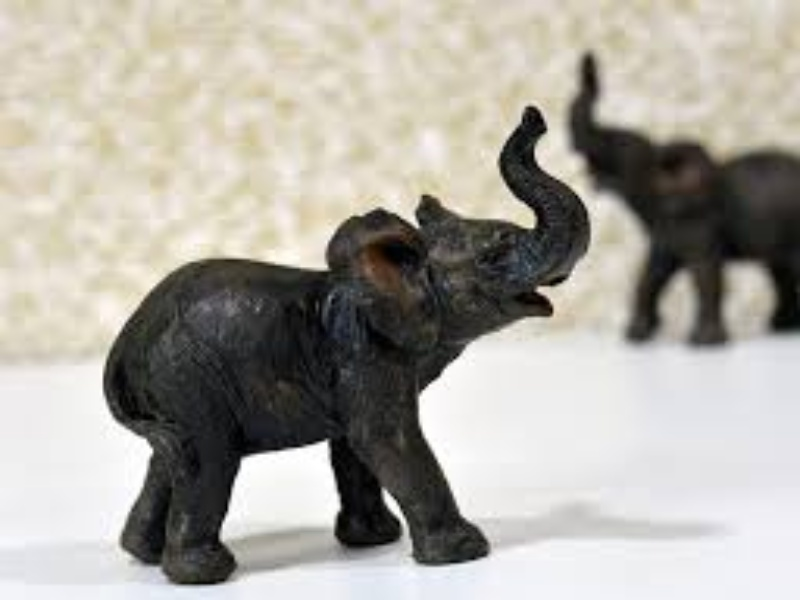elephant: (73, 88, 592, 573)
